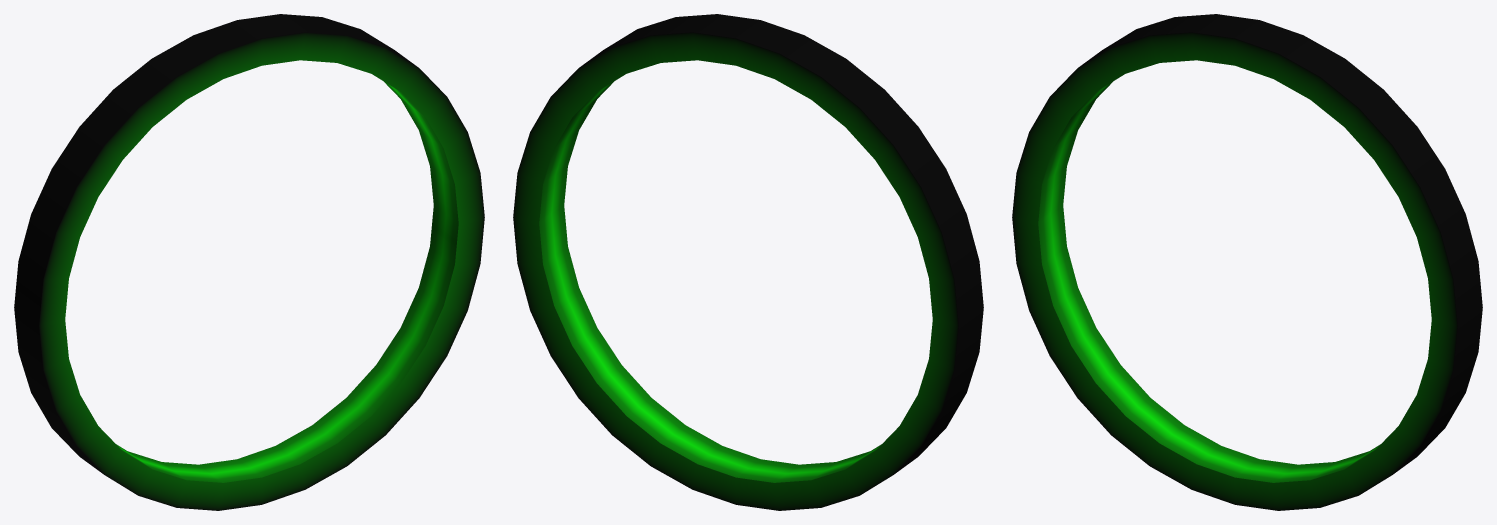
File: LampRing.fbx
The picture shows the model from 3 angles, left to right: view 1: azimuth 30°, elevation 25°; view 2: azimuth 150°, elevation 25°; view 3: azimuth 330°, elevation 25°; orthographic projection.
Parts seen in each view (by area): view 1: LampRing; view 2: LampRing; view 3: LampRing.
Part boxes in pixels (x1,y1,x2,y2): LampRing: (14,14,484,510); LampRing: (513,14,983,510); LampRing: (1012,14,1482,510).
Size of the model in its own units: 2.27 by 2.27 by 0.22.
